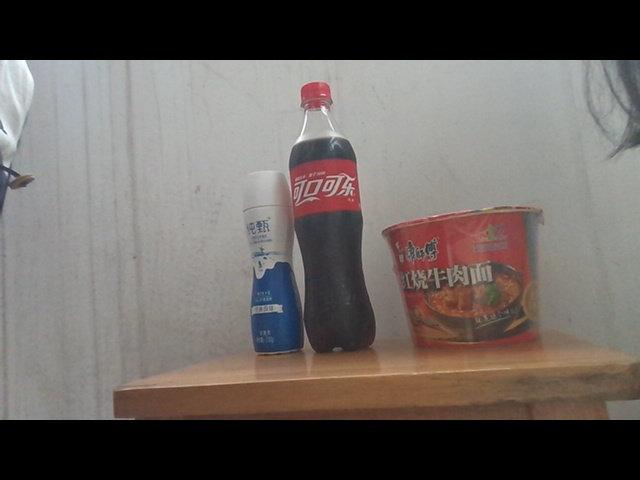cola: (288, 82, 377, 352)
kangshifu: (381, 205, 547, 350)
yogurt: (241, 170, 304, 354)
